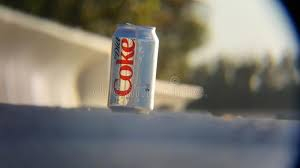can: (105, 22, 161, 115)
